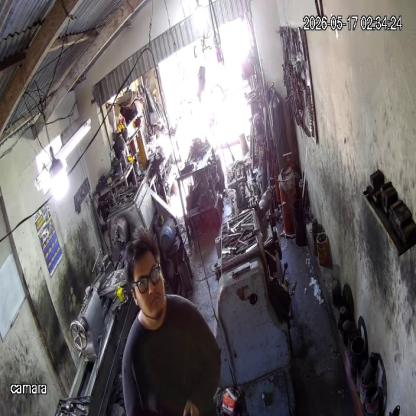lentes: (131, 264, 161, 292)
